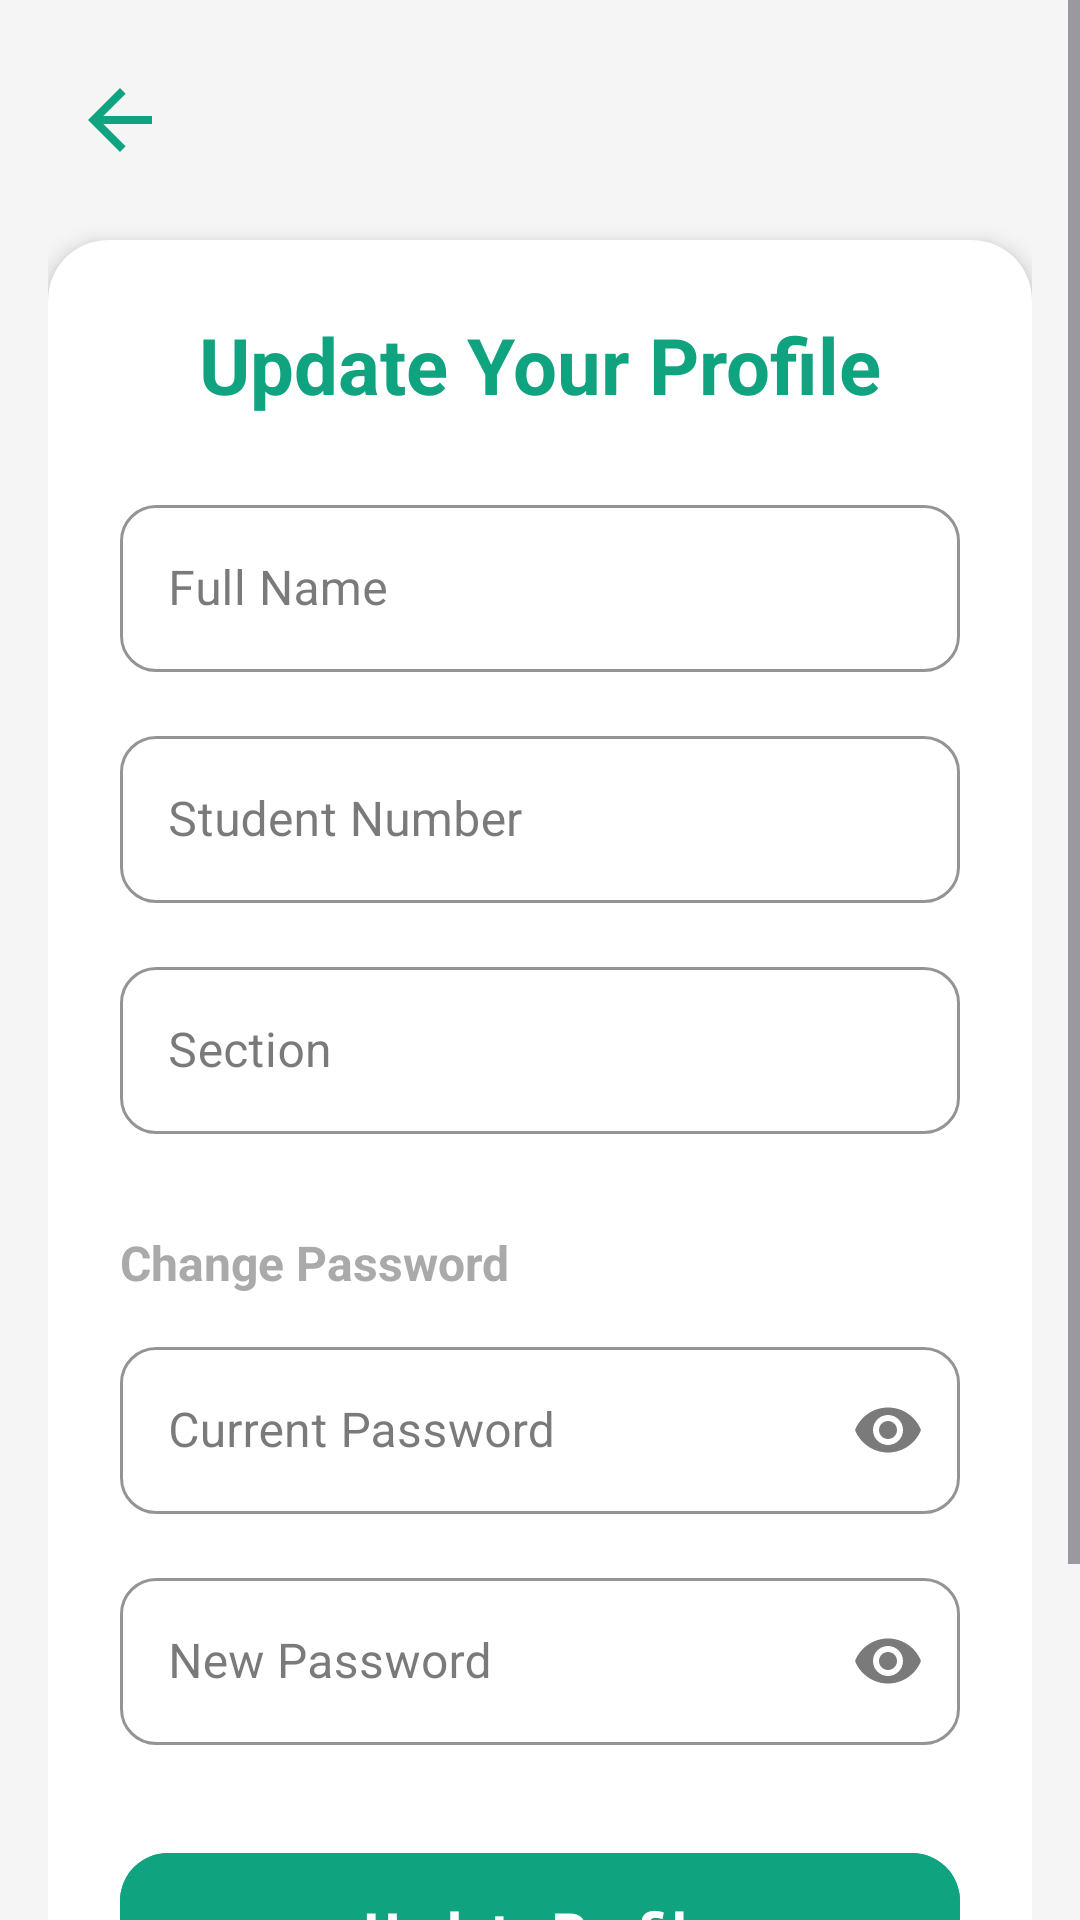

Named icons in this screenshot (1080×1920) and their bounding boxes, (x1, y1, x2, y2):
arrow back: (88, 88, 152, 152)
